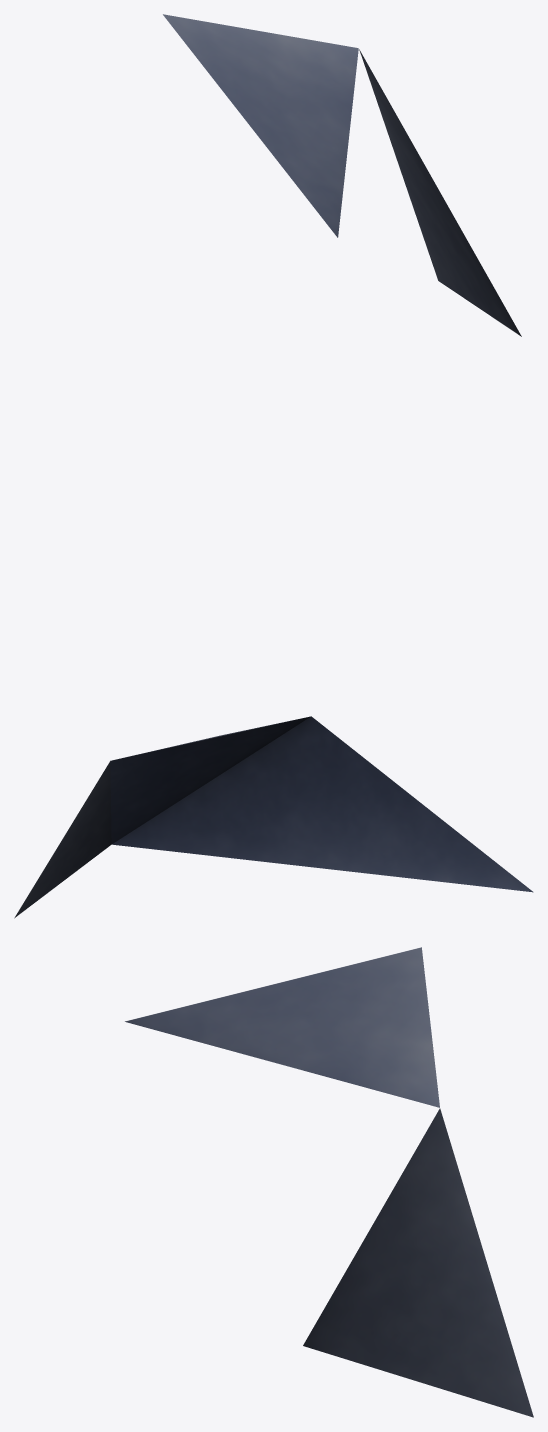
The model's file is SM_Ceiling_Vert_A_A.fbx.
3 views of the same model, one above another, from view 1: azimuth 30°, elevation 25°; view 2: azimuth 150°, elevation 25°; view 3: azimuth 270°, elevation 25° (orthographic). The views are drawn at different scales.
Visible parts, largest first — view 1: pCube192; view 2: pCube192; view 3: pCube192.
Part boxes in pixels (bbox=[...]): pCube192: bbox=[163, 14, 521, 336]; pCube192: bbox=[14, 716, 533, 918]; pCube192: bbox=[125, 947, 533, 1417].
Bounding box in the file's own units: 0.524 × 0.2759 × 0.3922.
